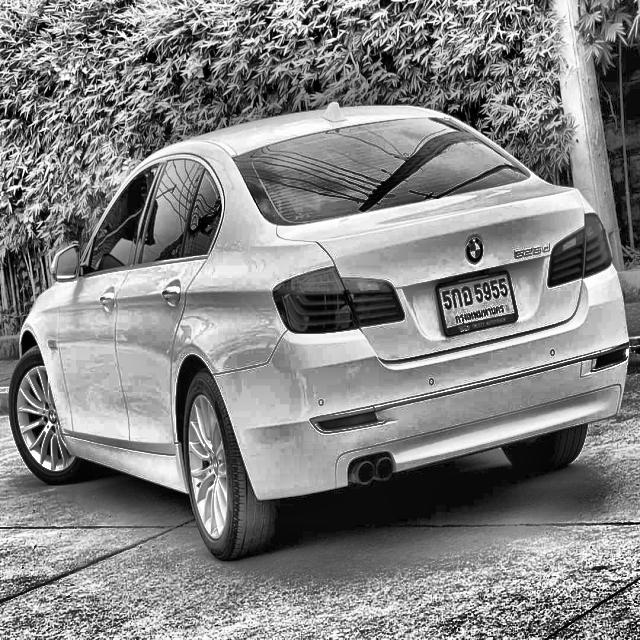license-plate: (432, 265, 522, 338)
